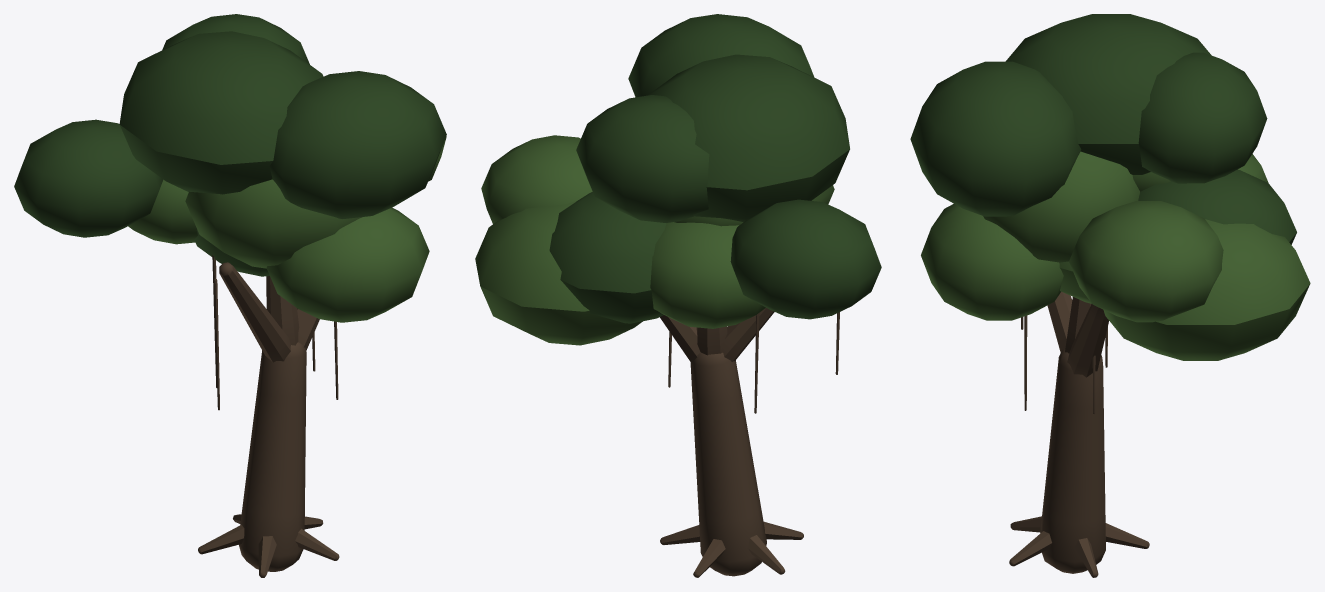
File: tree_big.glb
3 renders of one model, left to right at view 1: azimuth 30°, elevation 25°; view 2: azimuth 150°, elevation 25°; view 3: azimuth 270°, elevation 25°, orthographic. The views are drawn at different scales.
Parts seen in each view (by area): view 1: TreeBig; view 2: TreeBig; view 3: TreeBig.
Part boxes in pixels (<box>): TreeBig: <box>14,14,446,577</box>; TreeBig: <box>475,14,881,577</box>; TreeBig: <box>910,14,1310,577</box>.
Bounding box in the file's own units: 5.69 × 7.16 × 4.9.
